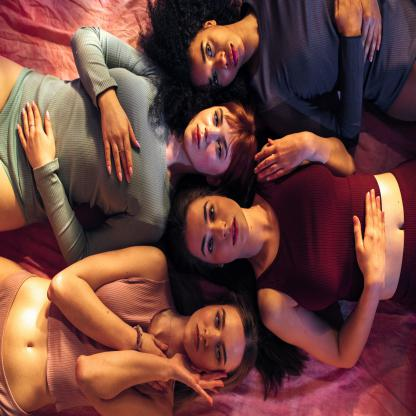Eye: (206, 40, 213, 58), (207, 237, 213, 256), (209, 204, 215, 222), (213, 70, 219, 86), (218, 141, 223, 159), (215, 311, 220, 329), (216, 344, 221, 362), (214, 110, 219, 127)
Mouth: (229, 42, 238, 68), (231, 217, 238, 245), (194, 124, 201, 149), (194, 324, 200, 352)
Nose: (210, 221, 226, 239), (203, 328, 219, 346), (213, 52, 228, 70), (205, 127, 218, 144)
